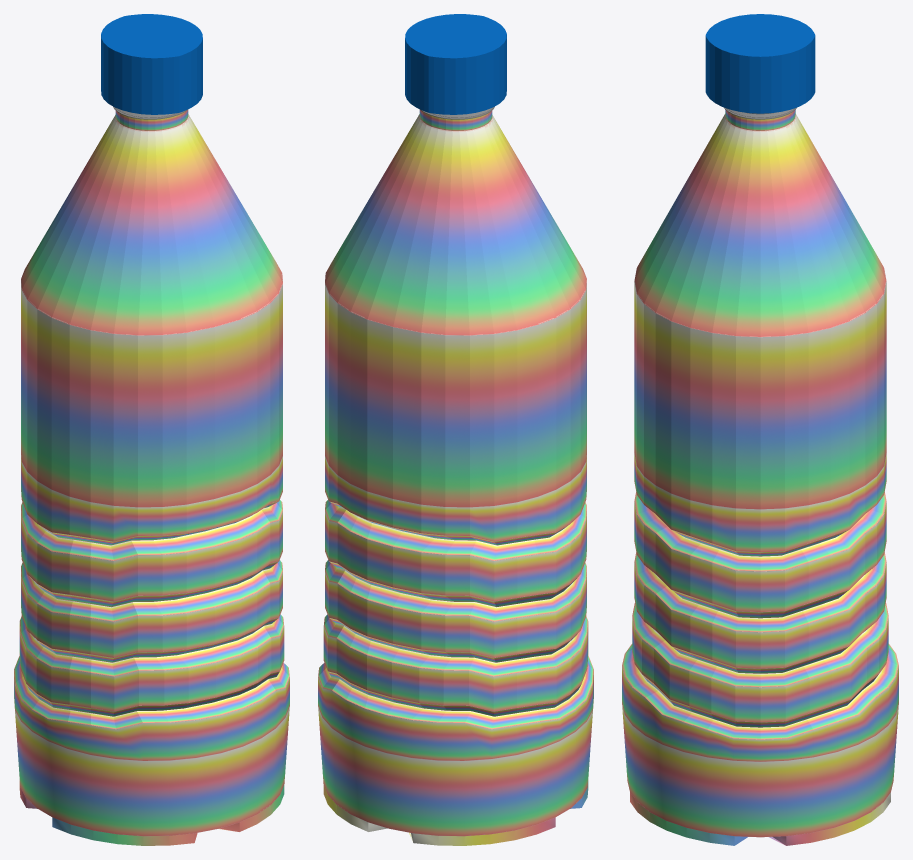
The model's file is WatterBottle.obj.
3 views of the same model, side by side, from view 1: azimuth 30°, elevation 25°; view 2: azimuth 150°, elevation 25°; view 3: azimuth 270°, elevation 25° (orthographic).
Parts seen in each view (by area): view 1: WatterBottle; view 2: WatterBottle; view 3: WatterBottle.
Boxes of the visible parts, <box> form: WatterBottle: <box>14,14,289,845</box>; WatterBottle: <box>318,14,593,845</box>; WatterBottle: <box>622,14,898,845</box>.
Bounding box in the file's own units: 2.15 × 6.46 × 2.15.
4 materials, 2 textured.
